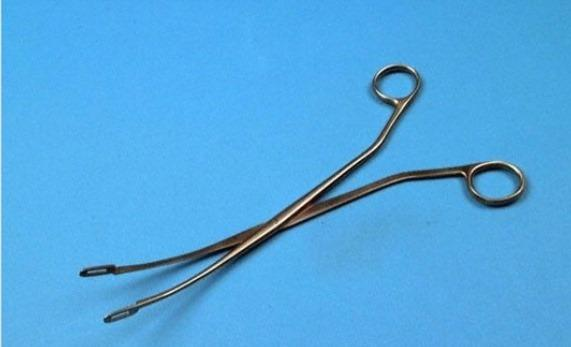Desjardin Forceps: (73, 59, 530, 331)
